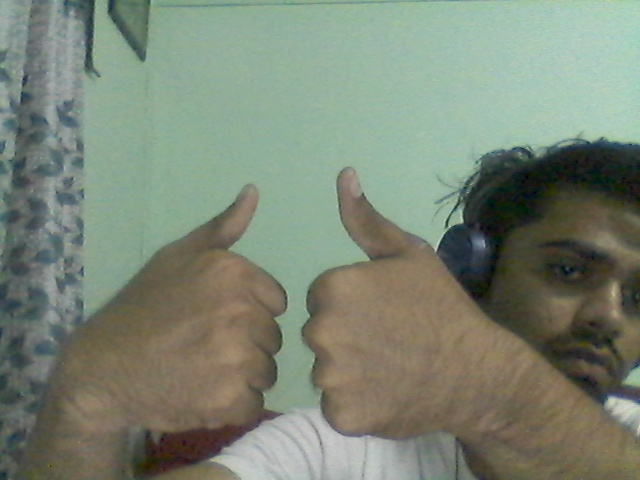Thank You: (61, 152, 491, 469)
